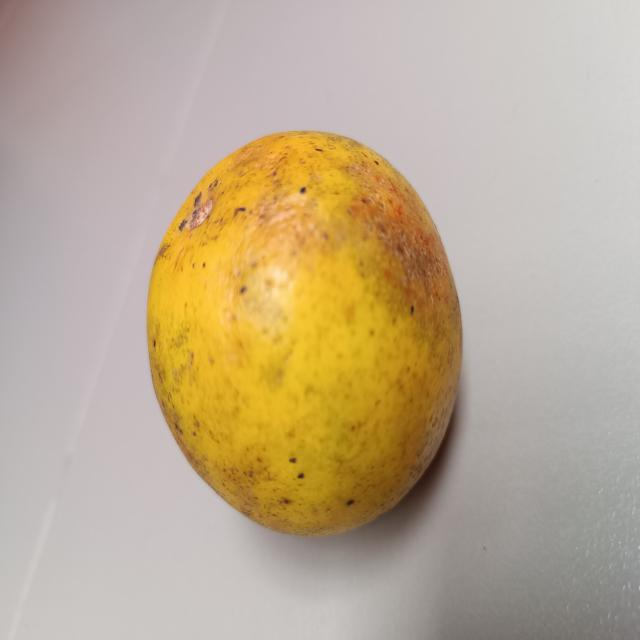Ripe orange: (140, 121, 470, 542)
